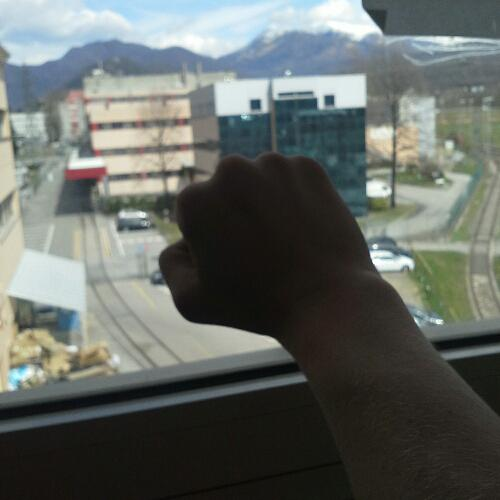rock: (156, 146, 386, 334)
